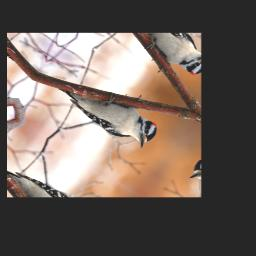Woodpecker: (52, 68, 164, 154)
